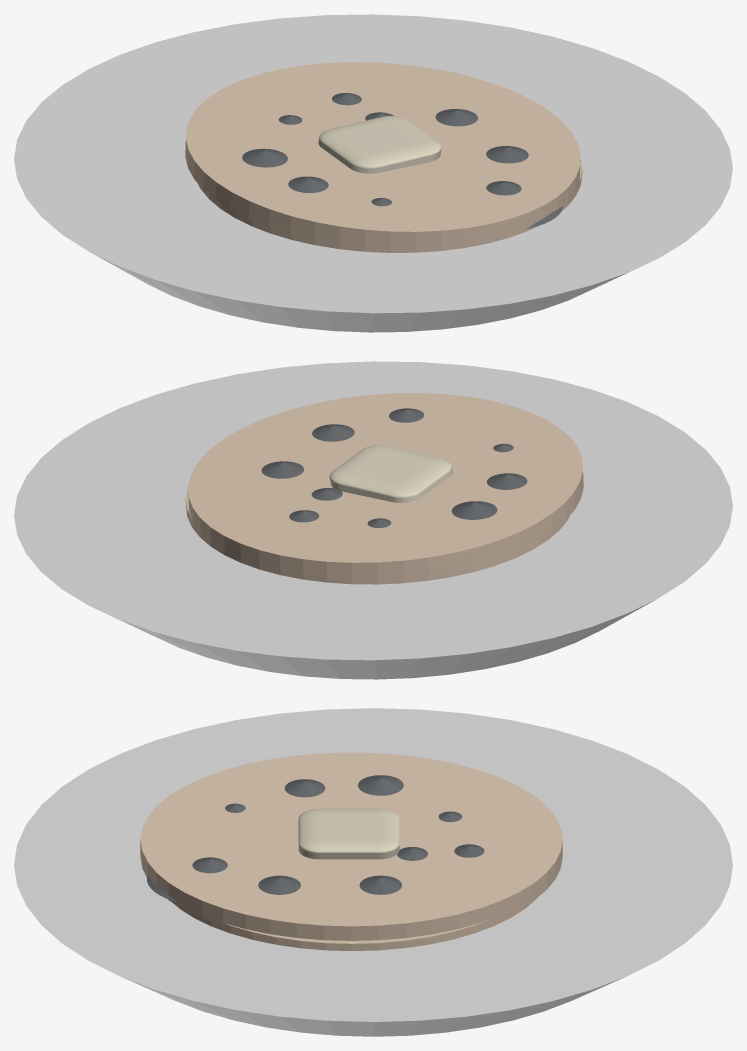
Rendered from Grayson C - Pancakes.glb.
The picture shows the model from 3 angles, top to bottom: view 1: azimuth 30°, elevation 25°; view 2: azimuth 150°, elevation 25°; view 3: azimuth 270°, elevation 25°; orthographic projection.
Parts seen in each view (by area): view 1: Mesh_Mesh_head_geo.001_lambert2SG.001; view 2: Mesh_Mesh_head_geo.001_lambert2SG.001; view 3: Mesh_Mesh_head_geo.001_lambert2SG.001.
Boxes of the visible parts, x1,y1,x2,y2 form: Mesh_Mesh_head_geo.001_lambert2SG.001: (14, 14, 732, 332); Mesh_Mesh_head_geo.001_lambert2SG.001: (14, 361, 732, 679); Mesh_Mesh_head_geo.001_lambert2SG.001: (14, 708, 732, 1036).
Bounding box in the file's own units: 0.1136 × 0.016 × 0.1137.
